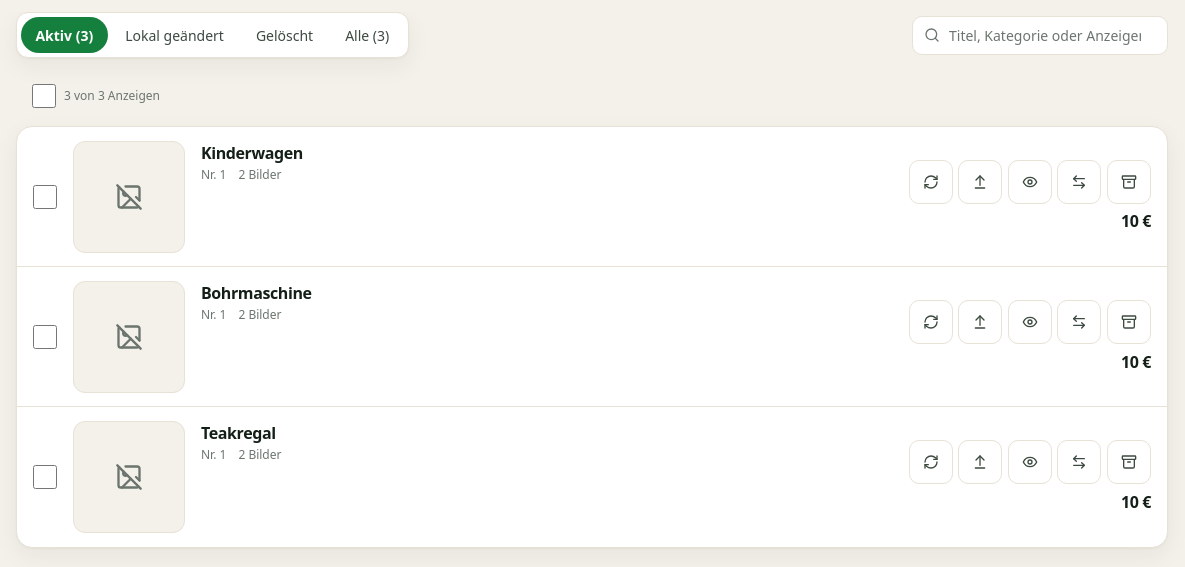
Test case: Mehrfachauswahl › wählt mit dem Kopfkästchen alle sichtbaren und hebt wieder auf
Expected: the text "Kinderwagen" is shown, [201,142,303,164]
Click the checkbox named "Alle sichtbaren auswählen" at {"x": 44, "y": 96}, box [32,84,56,108]
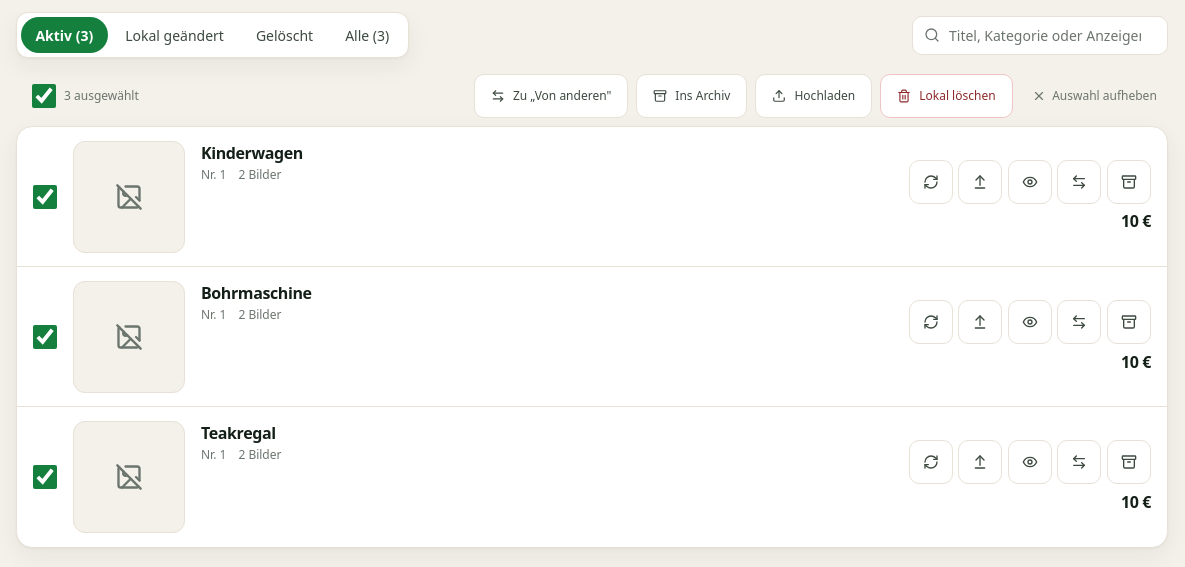
Expected: the text "3 ausgewählt" is shown, [16,84,139,108]
Click the checkbox named "Auswahl aufheben" at {"x": 44, "y": 96}, box [32,84,56,108]
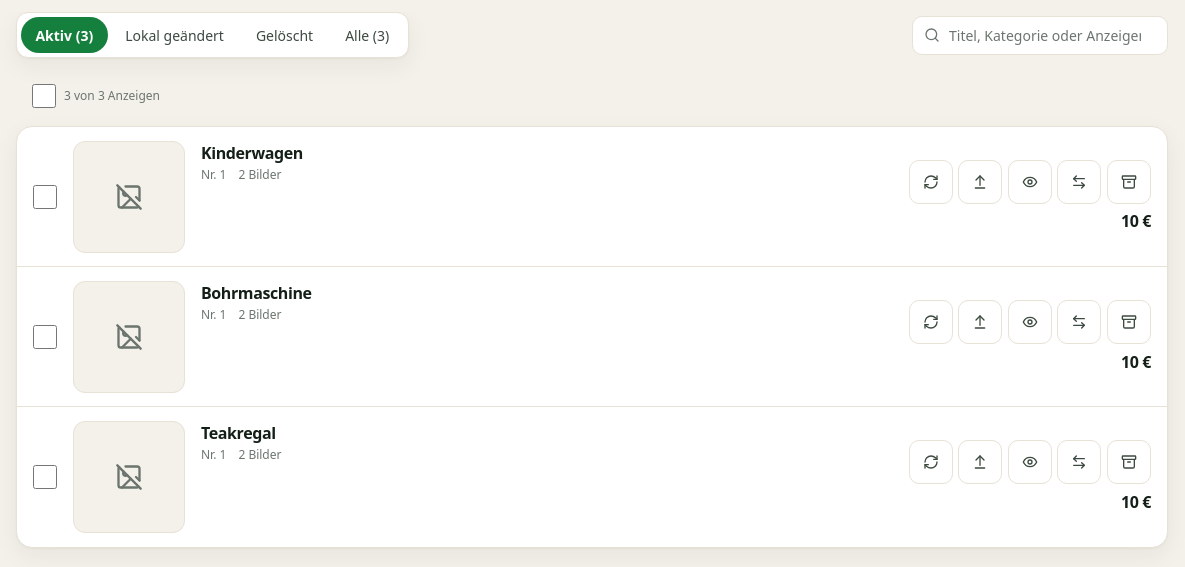
Expected: the element "Sammelaktionen" is gone
